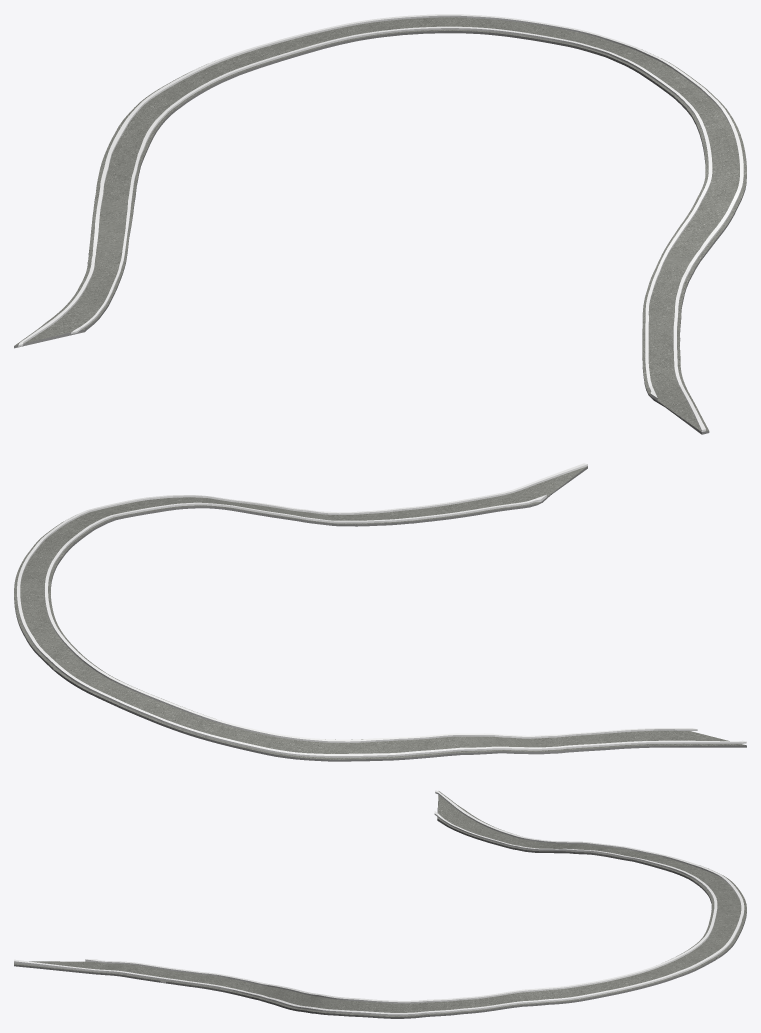
File: Round.FBX
3 views of the same model, one above another, from view 1: azimuth 30°, elevation 25°; view 2: azimuth 150°, elevation 25°; view 3: azimuth 270°, elevation 25° (orthographic). The views are drawn at different scales.
Parts seen in each view (by area): view 1: Round58, Round57, Round50, Round56, Round1, Round55; view 2: Round17, Round1, Round26, Round25, Round18, Round27, Round4, Round16, Round31, Round24, Round5, Round3 (+6 smaller); view 3: Round50, Round49, Round51.
Boxes of the visible parts, left/top/right/bottom form: Round58: left=670, top=223, right=723, bottom=247; Round57: left=681, top=209, right=734, bottom=231; Round50: left=691, top=108, right=736, bottom=132; Round56: left=690, top=195, right=741, bottom=214; Round1: left=14, top=326, right=86, bottom=348; Round55: left=698, top=180, right=746, bottom=199; Round17: left=343, top=738, right=377, bottom=761; Round1: left=679, top=728, right=746, bottom=747; Round26: left=150, top=704, right=194, bottom=729; Round25: left=173, top=712, right=214, bottom=737; Round18: left=317, top=739, right=349, bottom=761; Round27: left=130, top=697, right=176, bottom=720; Round4: left=608, top=729, right=652, bottom=748; Round16: left=370, top=737, right=400, bottom=760; Round31: left=65, top=667, right=111, bottom=689; Round24: left=195, top=718, right=233, bottom=743; Round5: left=585, top=731, right=623, bottom=750; Round3: left=633, top=728, right=678, bottom=747; Round50: left=402, top=999, right=428, bottom=1018; Round49: left=427, top=998, right=451, bottom=1016; Round51: left=380, top=1000, right=404, bottom=1018.
Size of the model in its own units: 6335 by 735 by 6961.
